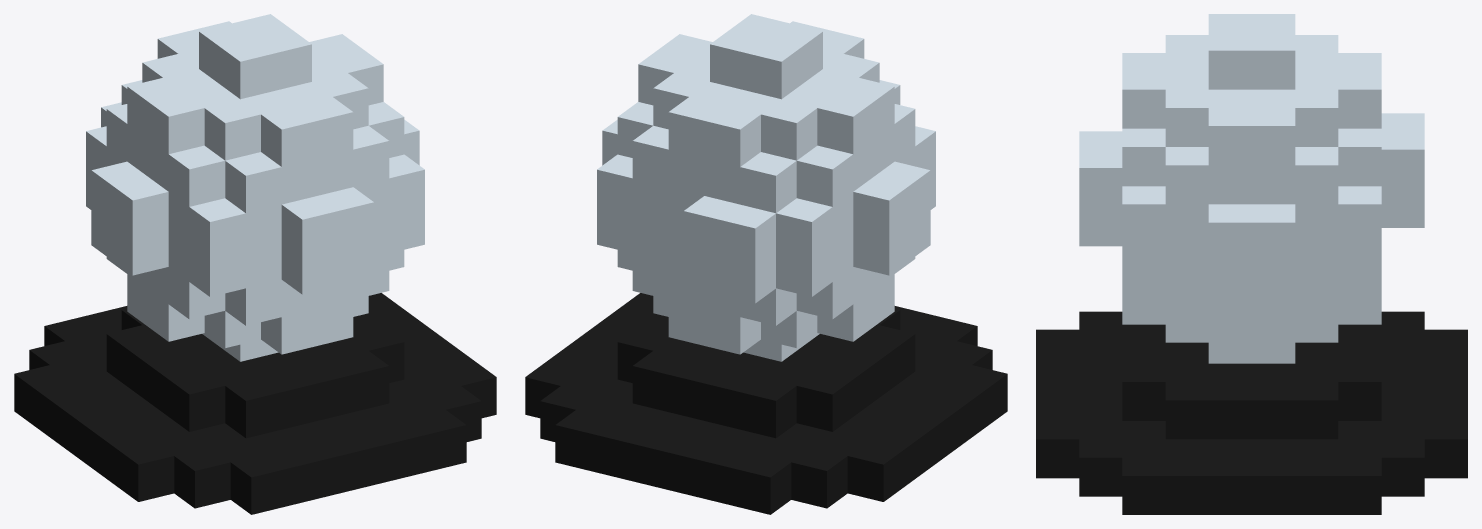
Rendered from MagShar.obj.
3 renders of one model, left to right at view 1: azimuth 30°, elevation 25°; view 2: azimuth 150°, elevation 25°; view 3: azimuth 270°, elevation 25°, orthographic. The views are drawn at different scales.
Parts seen in each view (by area): view 1: MagShar; view 2: MagShar; view 3: MagShar.
Part boxes in pixels (box(x1,y1,x2,y2)): MagShar: box(14, 14, 496, 514); MagShar: box(525, 14, 1007, 514); MagShar: box(1036, 14, 1467, 514).
Bounding box in the file's own units: 1 × 1 × 1.
1 material, 1 textured.
